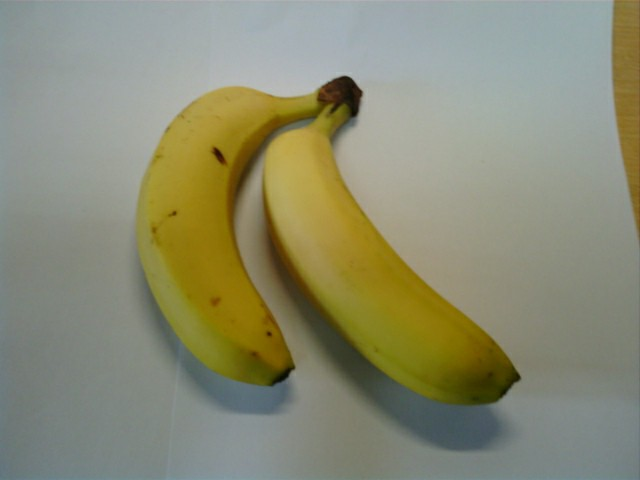fresh_banana: (264, 122, 521, 404)
normal_banana: (137, 85, 293, 389)
